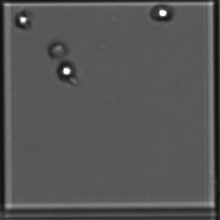Dead Cell: (48, 40, 68, 59)
Living Cell: (14, 12, 31, 28), (58, 62, 74, 79), (155, 4, 172, 20)
